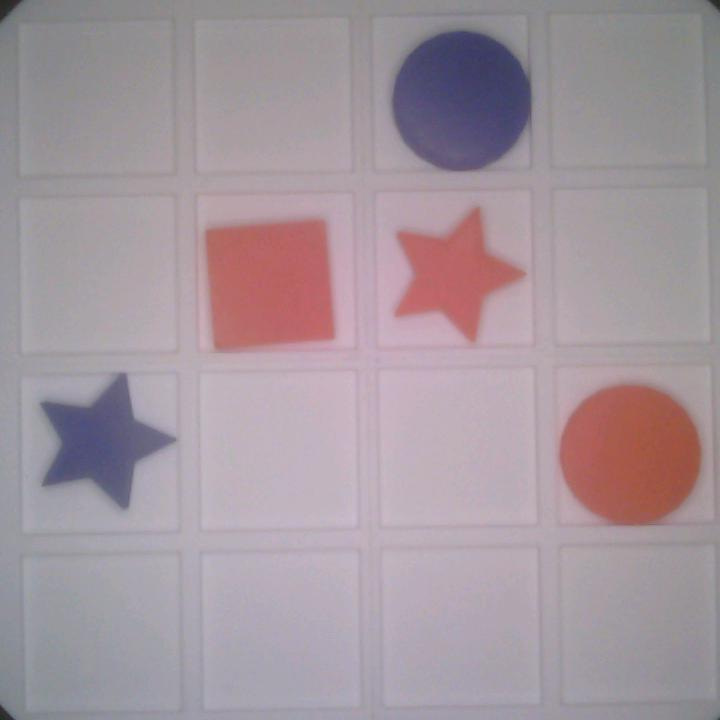Blue circle: (388, 26, 537, 172)
Blue star: (28, 372, 172, 512)
Orange circle: (560, 380, 707, 522)
Orange square: (195, 208, 342, 359)
Orange star: (387, 204, 531, 345)
